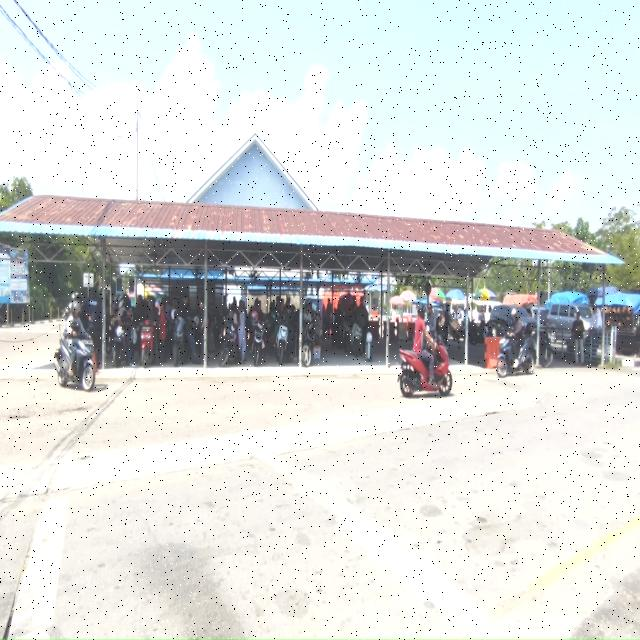Golongan II: (398, 337, 452, 397), (54, 338, 96, 392), (496, 334, 536, 378), (172, 310, 199, 367), (525, 325, 554, 368), (219, 318, 238, 367), (140, 320, 157, 368), (172, 310, 186, 367), (251, 320, 266, 366), (111, 323, 126, 368), (302, 320, 316, 368), (538, 328, 554, 368), (275, 324, 289, 365), (348, 322, 362, 357), (468, 320, 487, 345), (339, 318, 352, 352)
